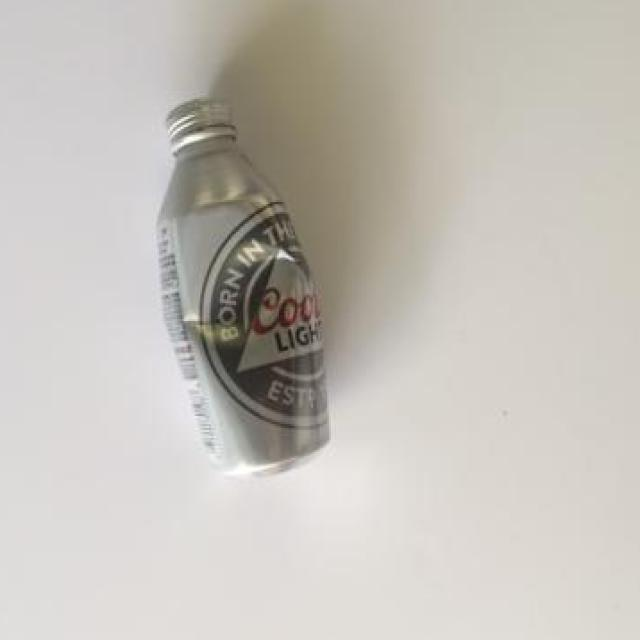organic: (121, 77, 389, 513)
